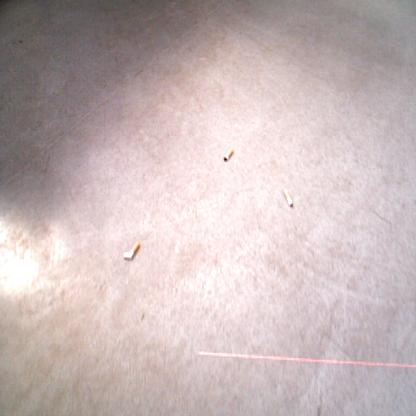dirty: (122, 240, 140, 260), (283, 189, 294, 208), (223, 148, 234, 162)
mark: (372, 207, 392, 225), (316, 386, 323, 415), (43, 154, 50, 172), (139, 310, 146, 322), (134, 68, 143, 76), (114, 55, 119, 65), (18, 38, 24, 44)
